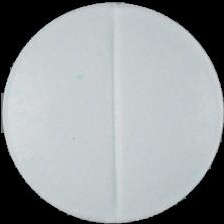54868-2157: (0, 0, 224, 224)
